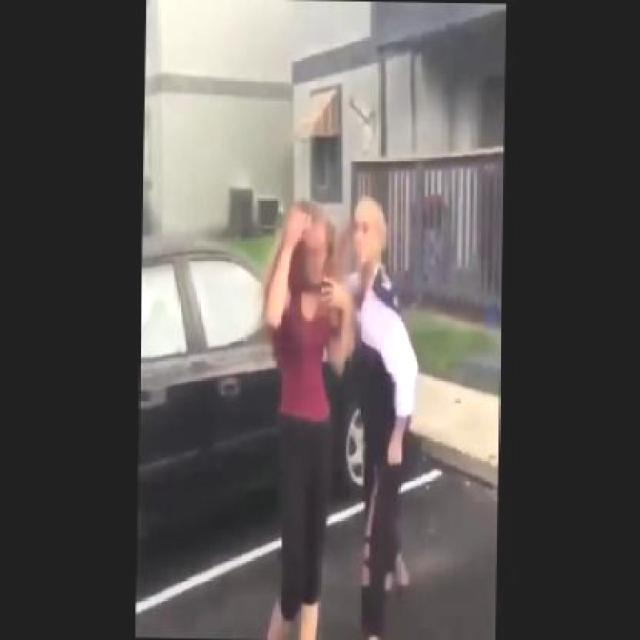fight: (256, 190, 422, 638)
